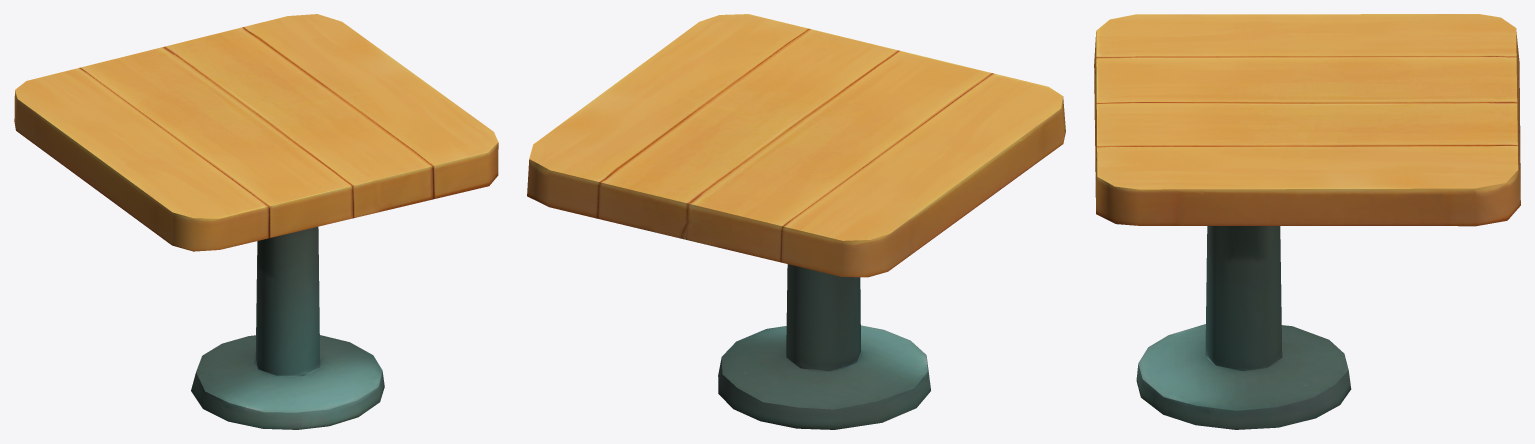
The model's file is Dining Table.fbx.
The picture shows the model from 3 angles, left to right: view 1: azimuth 30°, elevation 25°; view 2: azimuth 150°, elevation 25°; view 3: azimuth 270°, elevation 25°; orthographic projection. The views are drawn at different scales.
Parts seen in each view (by area): view 1: Table; view 2: Table; view 3: Table.
Boxes of the visible parts, x1,y1,x2,y2 form: Table: (14,14,498,429); Table: (527,14,1065,429); Table: (1094,14,1520,429).
Bounding box in the file's own units: 52.99 × 39.36 × 54.07.
Materials: 1 (1 with a texture image).
